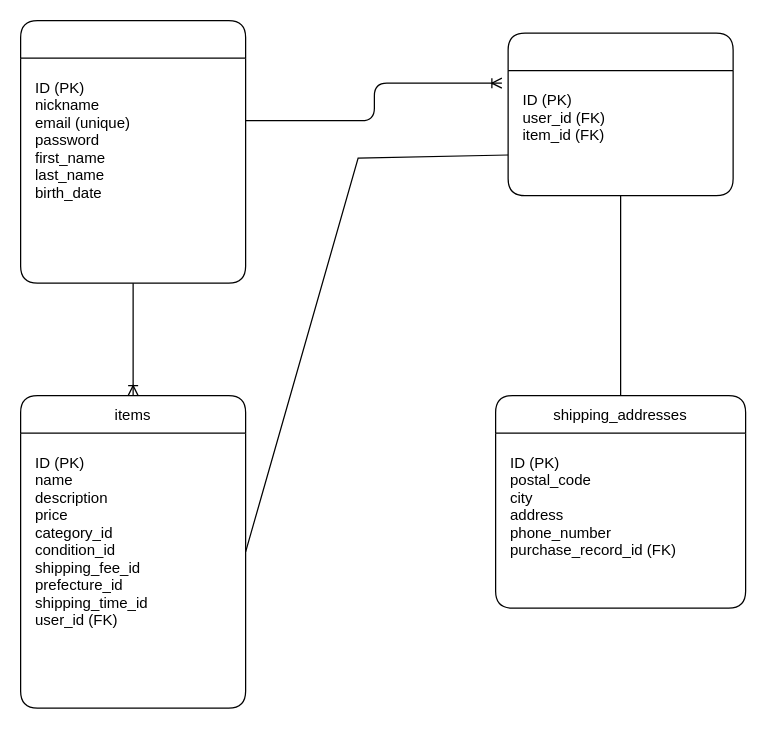
This 766x729 diagram has some shape labels left out. Each missing label, with the box of its shape:
purchase_records: (507, 32, 733, 196)
users: (19, 19, 246, 283)
